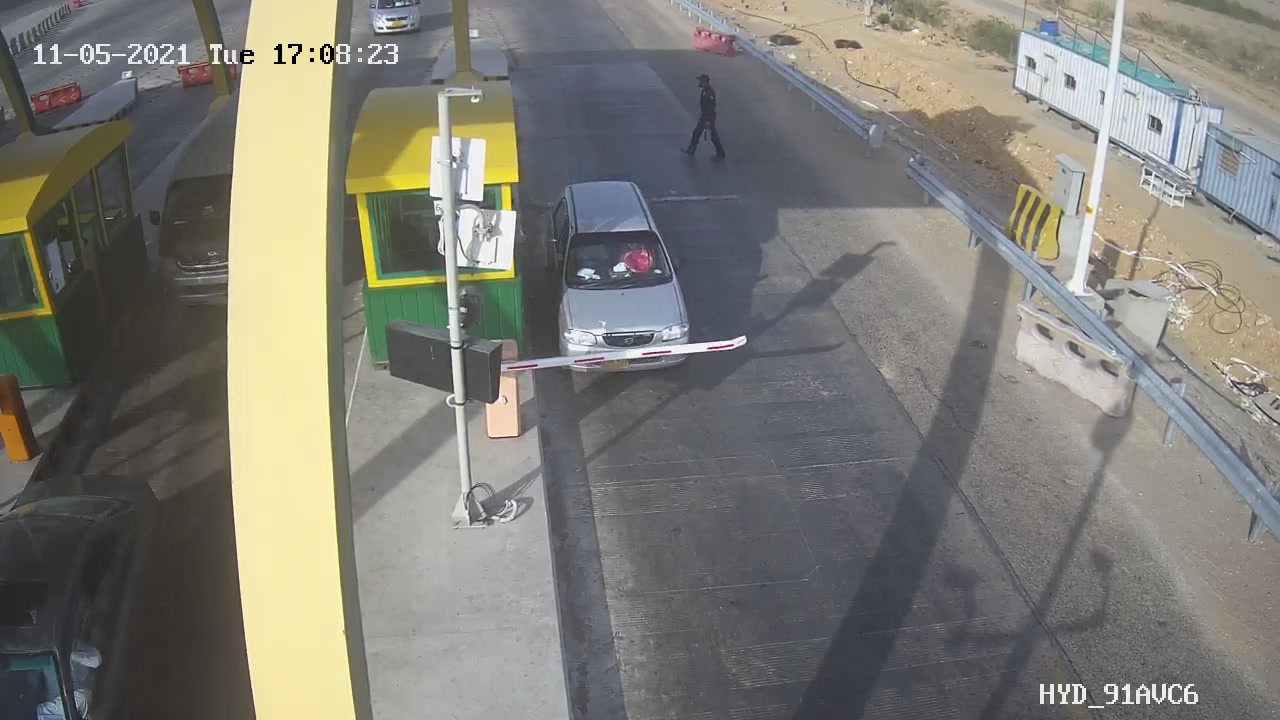F1: (521, 168, 712, 385)
